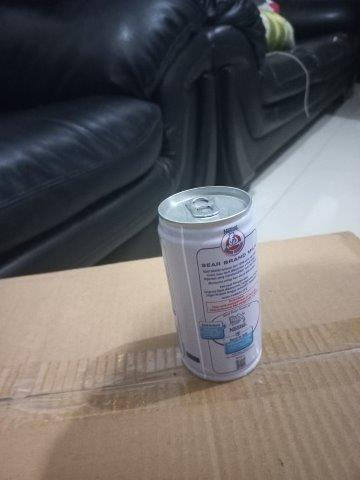kaleng: (154, 187, 264, 380)
kardus: (6, 231, 360, 480)
